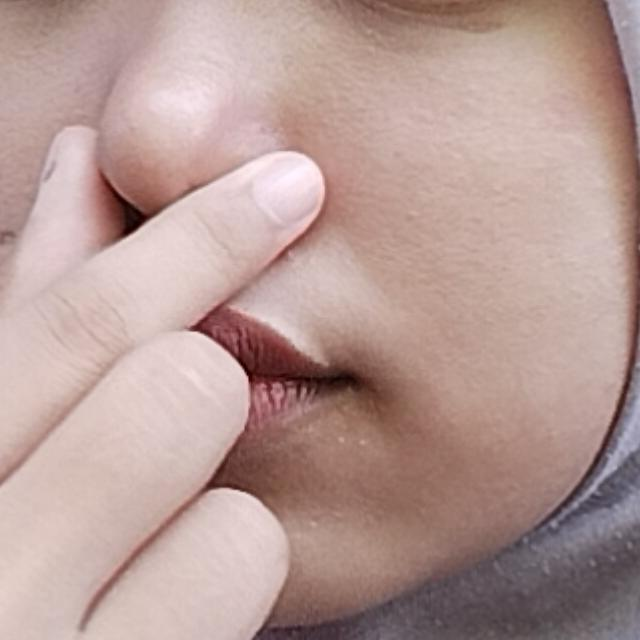bau: (0, 18, 410, 640)
